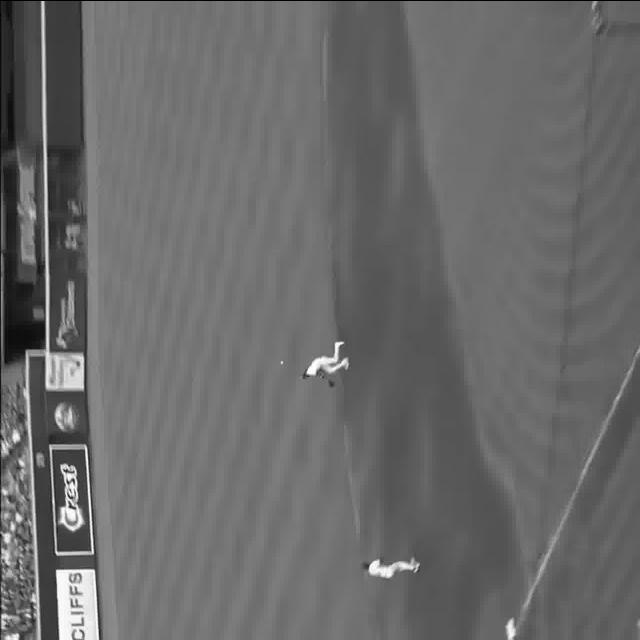base: (504, 618, 522, 638)
baseball: (279, 358, 286, 367)
baseball_glove: (326, 376, 338, 388)
shoe: (331, 336, 348, 348), (409, 556, 421, 572), (340, 356, 350, 372)
